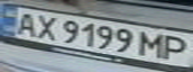1: (78, 20, 96, 48)
9: (112, 25, 139, 54), (57, 17, 81, 45), (93, 22, 115, 52)
A: (12, 10, 42, 37)
M: (139, 29, 169, 60)
P: (157, 34, 193, 62)
X: (30, 12, 60, 42)
